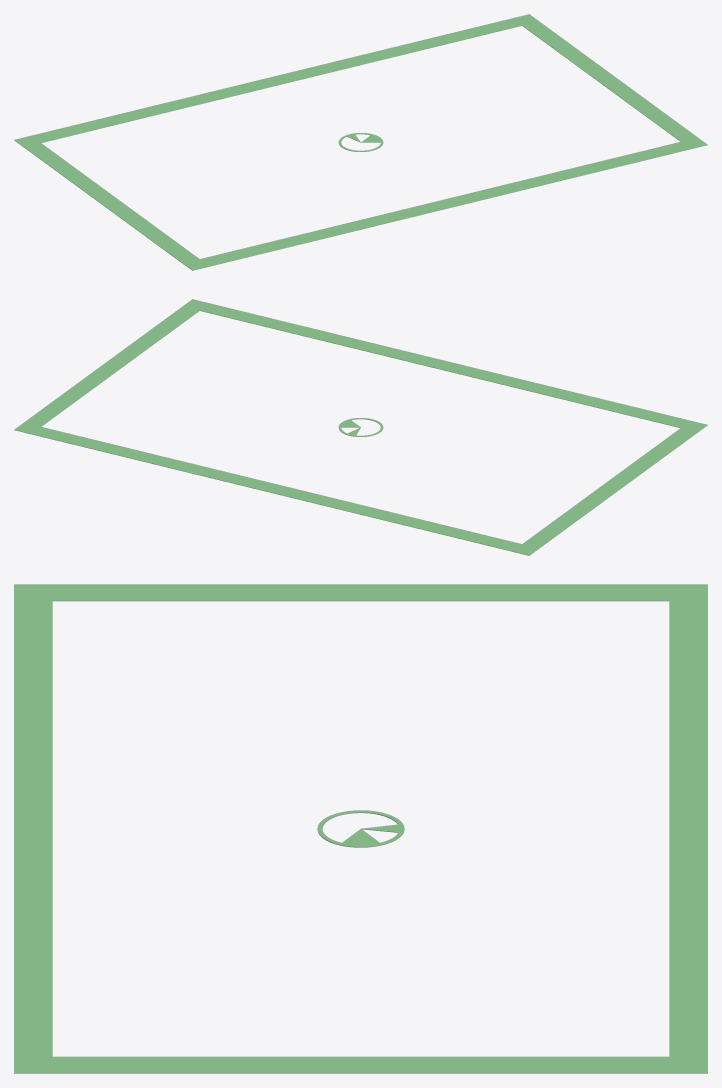
File: car_box.dae
3 renders of one model, top to bottom at view 1: azimuth 30°, elevation 25°; view 2: azimuth 150°, elevation 25°; view 3: azimuth 270°, elevation 25°, orthographic. The views are drawn at different scales.
Parts seen in each view (by area): view 1: car box v2; view 2: car box v2; view 3: car box v2.
Part boxes in pixels (x1,y1,x2,y2): car box v2: (14,14,707,270); car box v2: (14,299,707,555); car box v2: (14,584,707,1073).
Size of the model in its own units: 0.381 by 0.2286 by 0.000254.
